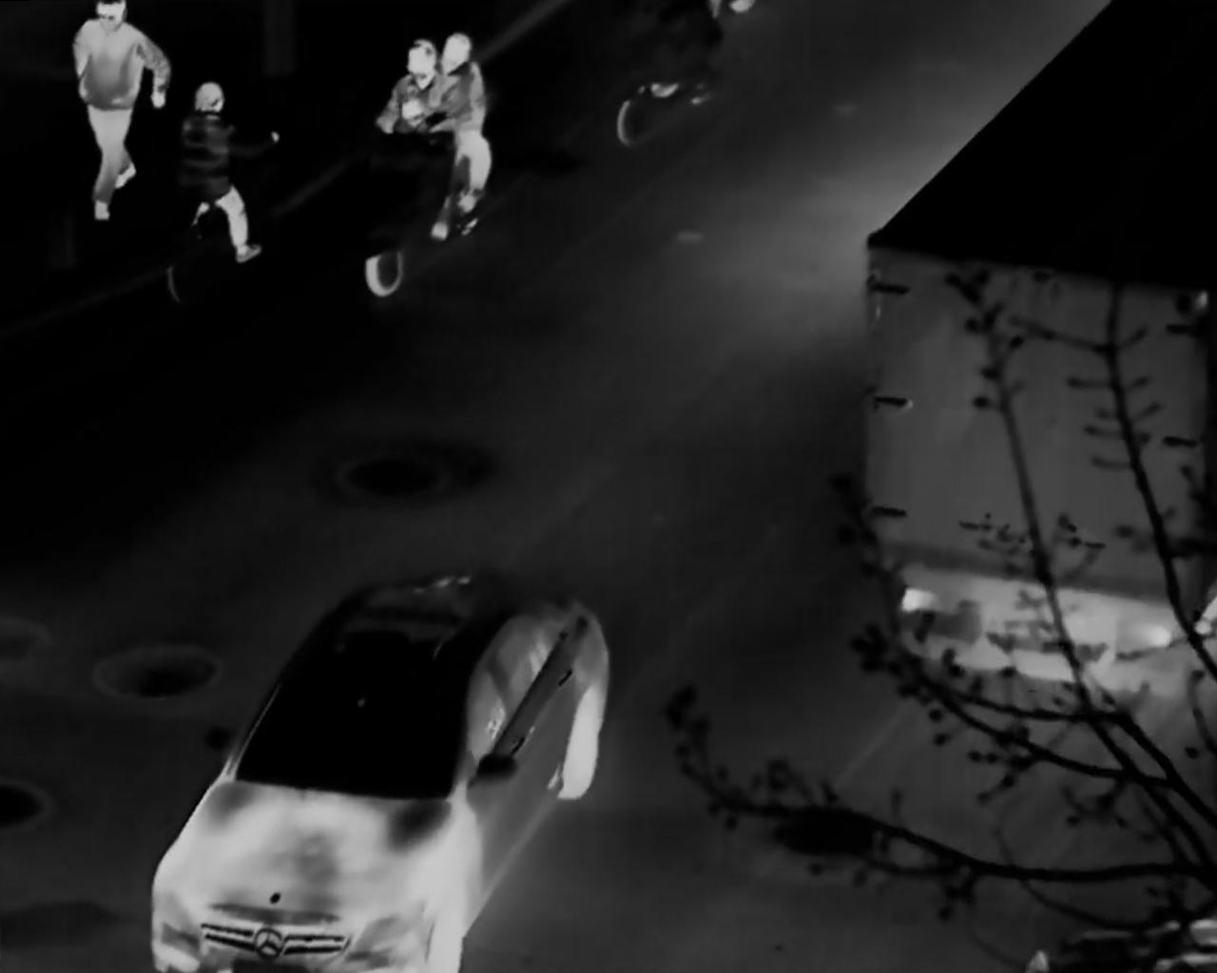person: (375, 29, 496, 241), (178, 79, 283, 265), (377, 40, 463, 157)
